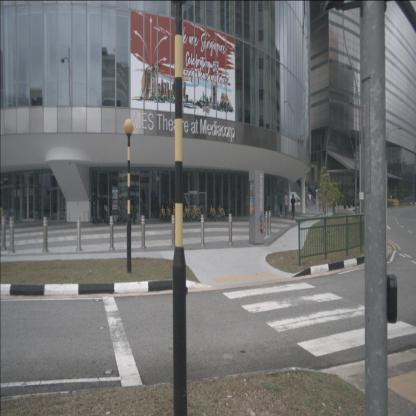human-pedestrian-adult: (278, 192, 284, 218), (284, 191, 288, 219), (291, 194, 295, 220), (308, 192, 312, 208)
